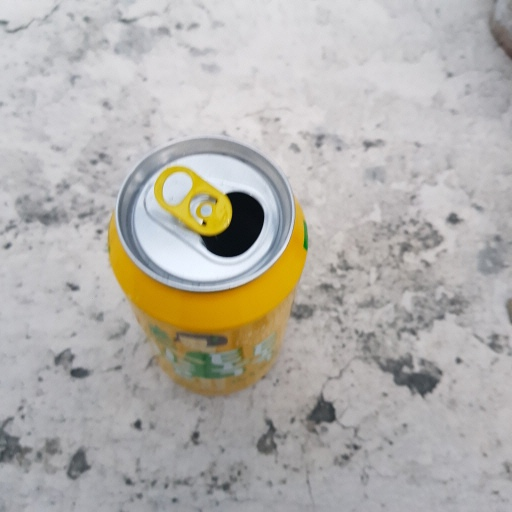Metal_0: (105, 137, 312, 397)
